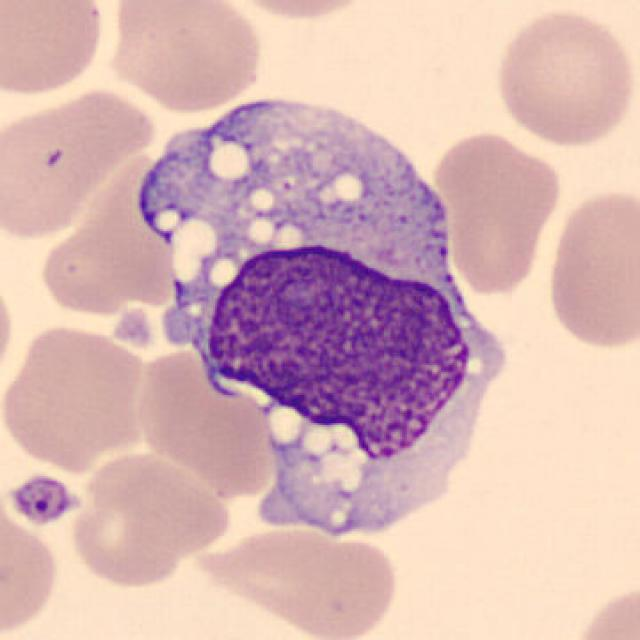Monocyte: (139, 72, 519, 529)
Platelets: (4, 471, 86, 527)
RBC: (188, 520, 402, 640), (0, 82, 156, 241), (64, 448, 231, 590), (0, 319, 153, 473), (430, 127, 566, 298), (491, 3, 636, 150), (103, 0, 267, 115), (542, 184, 638, 356), (35, 210, 169, 319), (0, 0, 110, 100), (0, 499, 64, 638), (563, 576, 640, 640), (218, 0, 380, 23), (0, 266, 18, 395)
